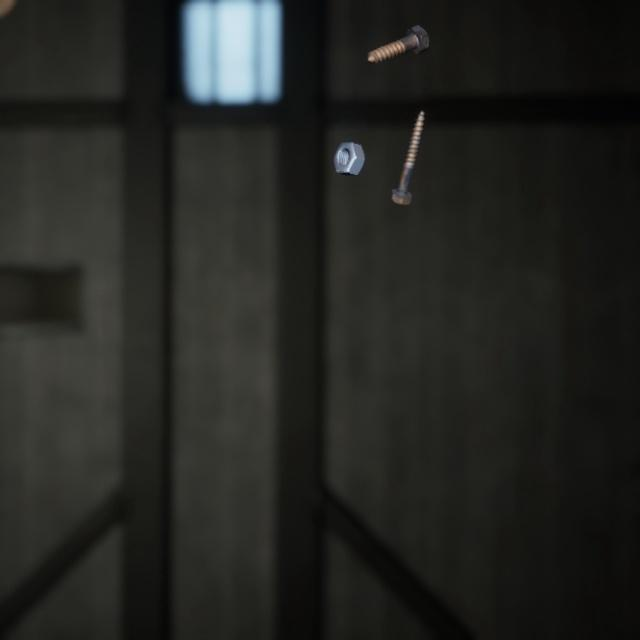bolt: (385, 93, 428, 196), (363, 12, 433, 60)
nut: (329, 124, 371, 166)
